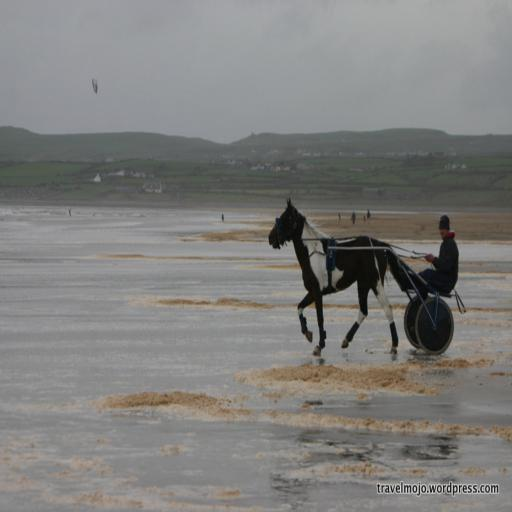Horse: (269, 195, 410, 355)
